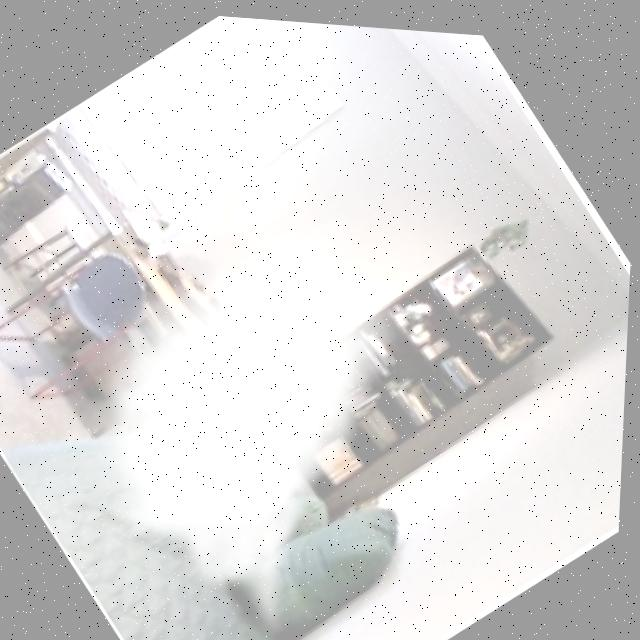Smoke: (15, 171, 532, 640)
